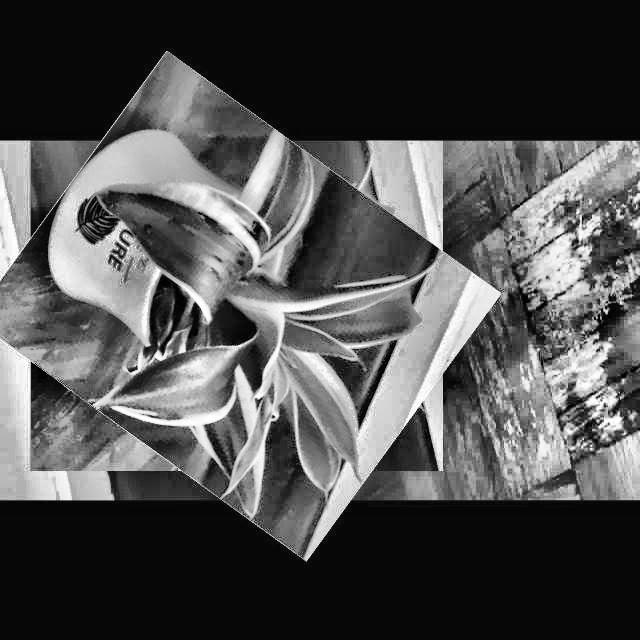plants: (1, 95, 472, 516)
